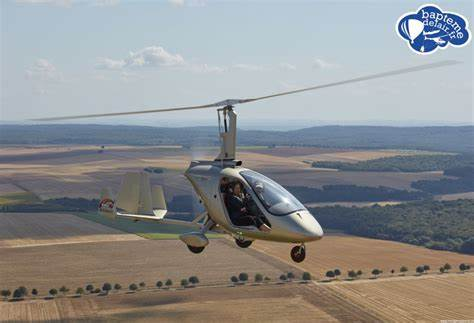Aeronef_de_loisir: (16, 54, 468, 265)
